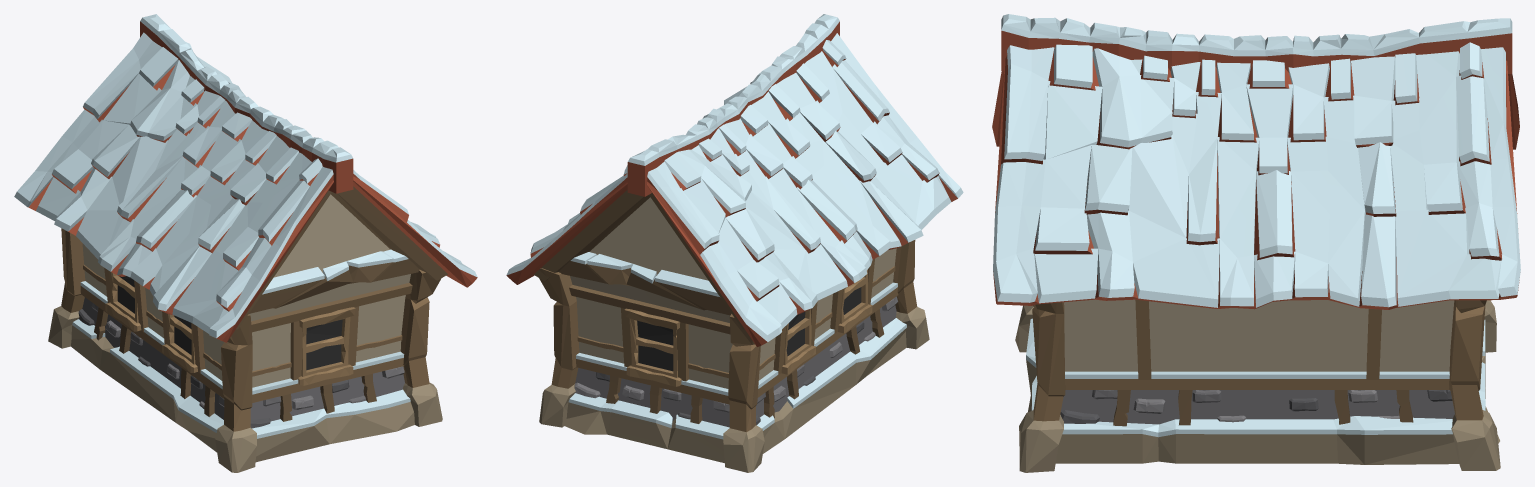
File: SM_Bld_House_Room_02_Snow.gltf
3 renders of one model, left to right at view 1: azimuth 30°, elevation 25°; view 2: azimuth 150°, elevation 25°; view 3: azimuth 270°, elevation 25°, orthographic. The views are drawn at different scales.
Visible parts, largest first — view 1: SM_Bld_House_Room_02_Snow; view 2: SM_Bld_House_Room_02_Snow; view 3: SM_Bld_House_Room_02_Snow.
Boxes of the visible parts, bbox=[...] form: SM_Bld_House_Room_02_Snow: bbox=[14, 14, 477, 472]; SM_Bld_House_Room_02_Snow: bbox=[506, 14, 963, 472]; SM_Bld_House_Room_02_Snow: bbox=[992, 14, 1520, 472].
Size of the model in its own units: 5.04 by 5.16 by 6.38.
Materials: 1 (1 with a texture image).
